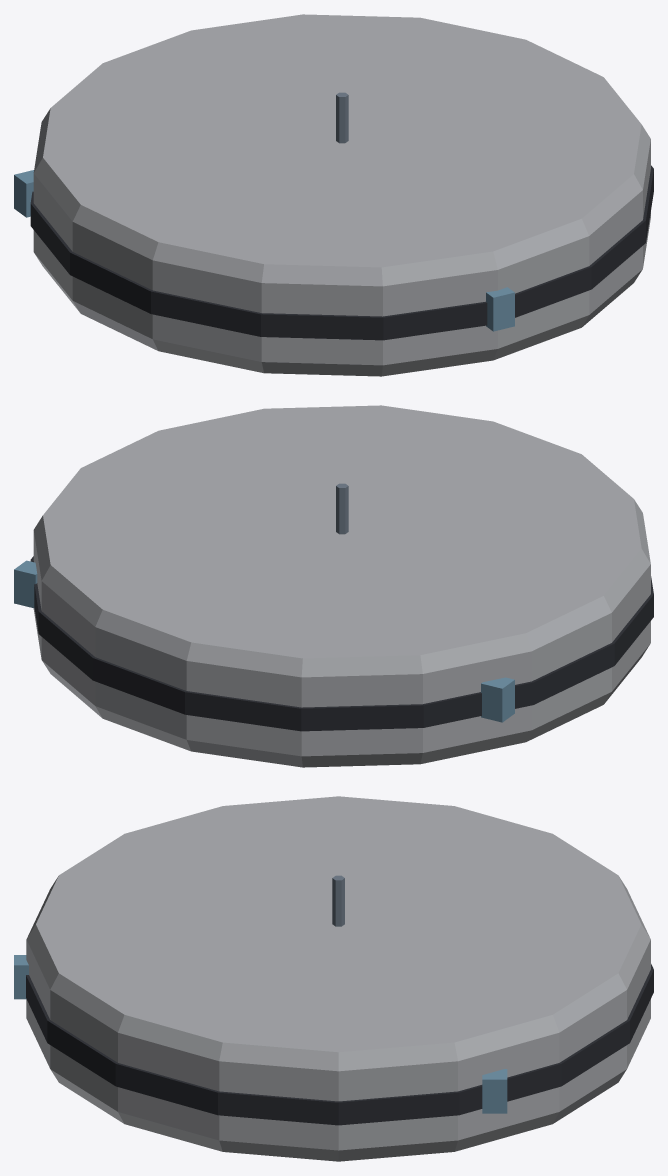
File: Avi_L.fbx
3 views of the same model, one above another, from view 1: azimuth 30°, elevation 25°; view 2: azimuth 150°, elevation 25°; view 3: azimuth 270°, elevation 25° (orthographic).
Parts seen in each view (by area): view 1: Avi_L; view 2: Avi_L; view 3: Avi_L.
Part boxes in pixels (left/top/right/bottom): Avi_L: left=14, top=14, right=653, bottom=376; Avi_L: left=14, top=405, right=653, bottom=767; Avi_L: left=14, top=796, right=653, bottom=1161.
Bounding box in the file's own units: 3.03 × 0.825 × 3.07.
Materials: 1 (1 with a texture image).
